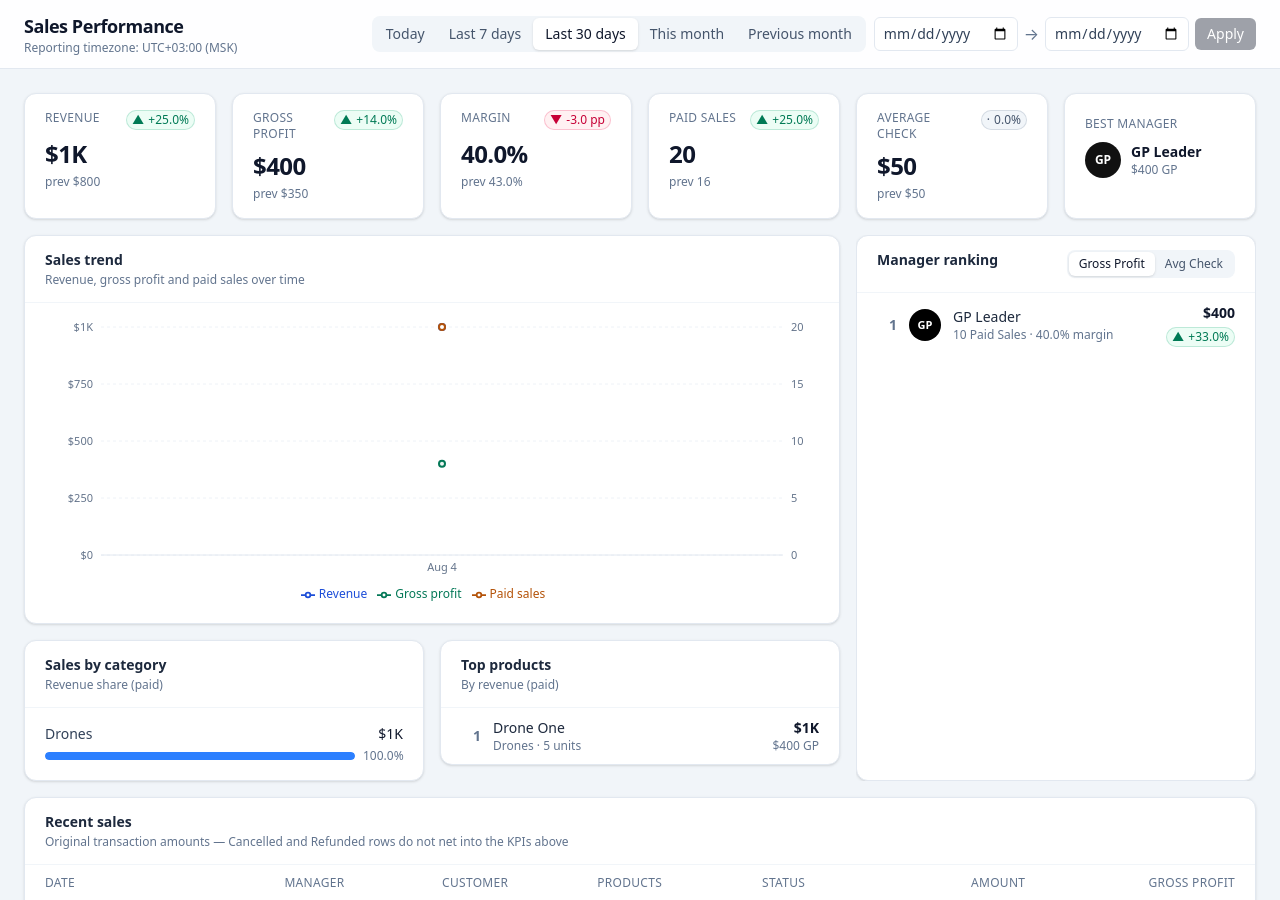
Test: Dashboard › switches the server-ranked collection when the ranking mode is toggled
Check: the text "Revenue" in the row of "+14.0%" is shown, box [45,109,100,126]
Check: the text "GP Leader" below "Manager ranking" is shown, box [953,307,1021,326]
Click the button "Avg Check" at coordinates (1194, 264), box [1155,252,1233,276]
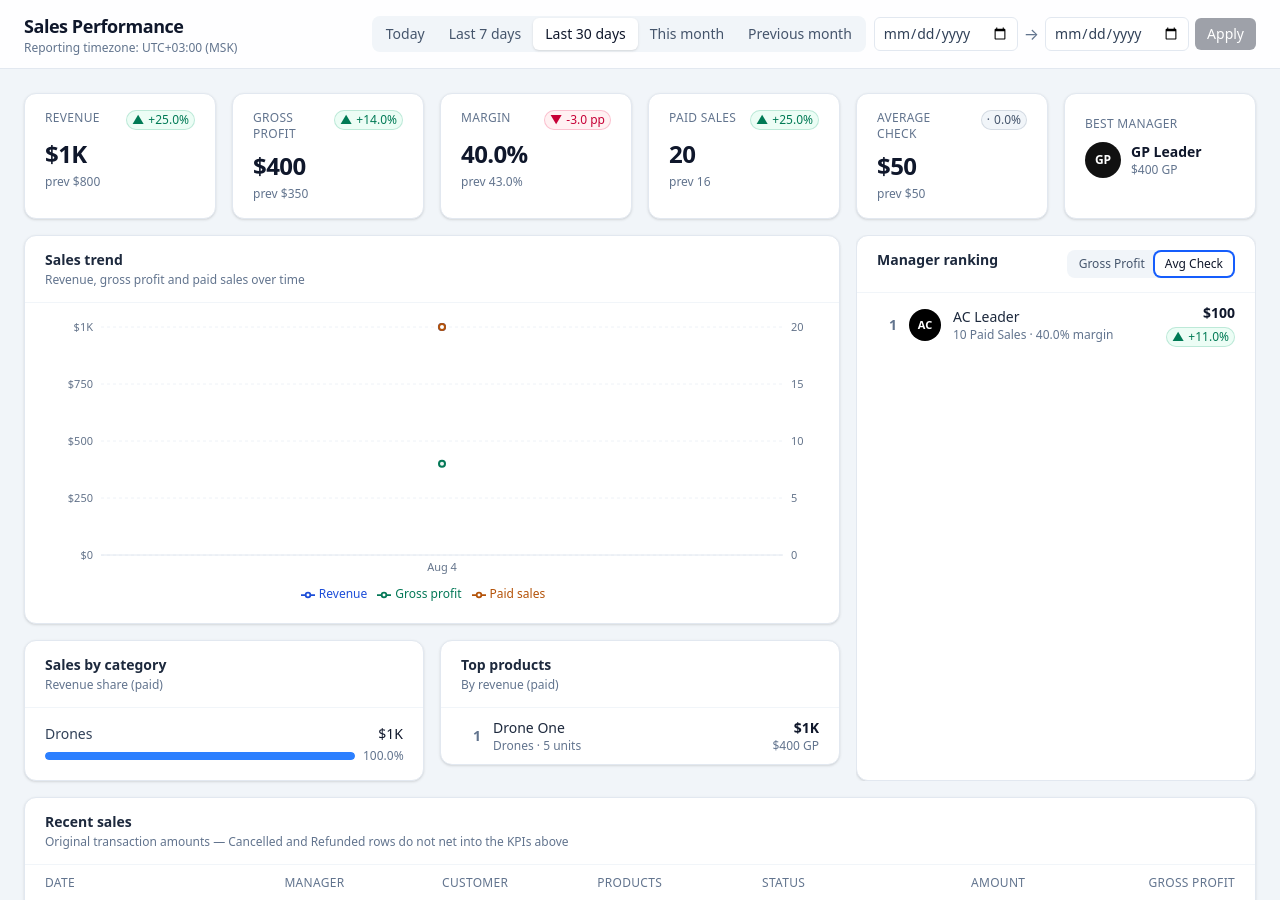
Check: the text "AC Leader" is shown, box [953,307,1020,327]
